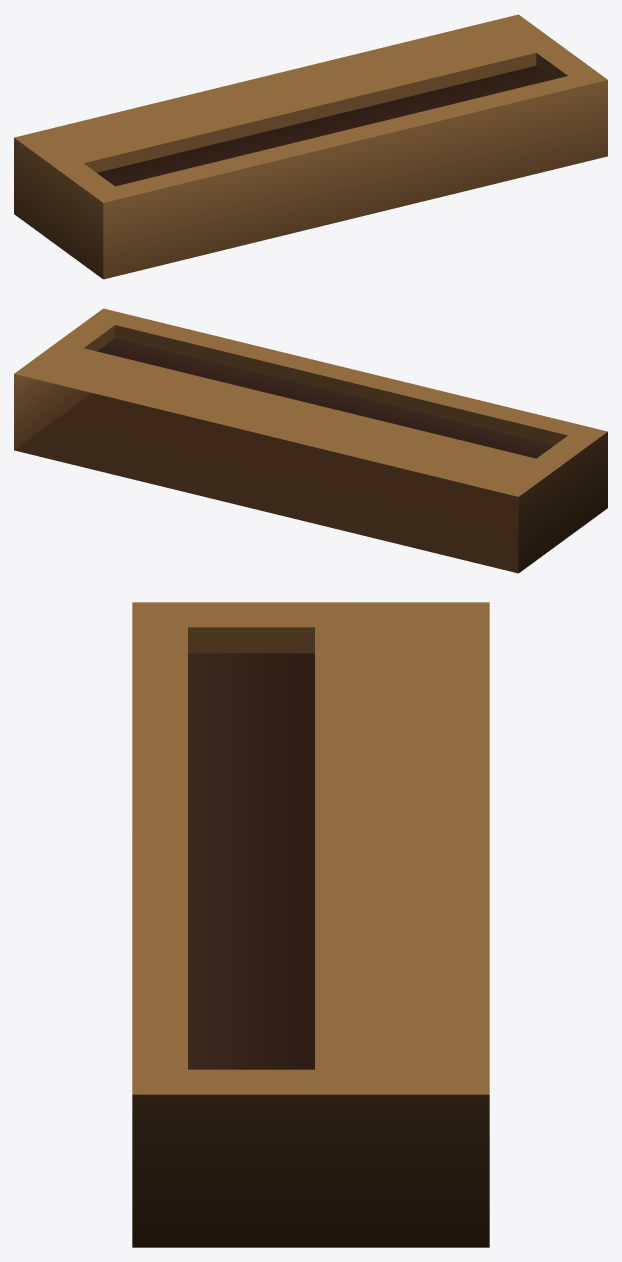
Rendered from Window_FlowerPot_02B.fbx.
3 views of the same model, one above another, from view 1: azimuth 30°, elevation 25°; view 2: azimuth 150°, elevation 25°; view 3: azimuth 270°, elevation 25° (orthographic). The views are drawn at different scales.
Visible parts, largest first — view 1: Window_FlowerPot_02B; view 2: Window_FlowerPot_02B; view 3: Window_FlowerPot_02B.
Part boxes in pixels (<box>): Window_FlowerPot_02B: <box>14,14,607,279</box>; Window_FlowerPot_02B: <box>14,308,607,573</box>; Window_FlowerPot_02B: <box>132,602,489,1247</box>.
Bounding box in the file's own units: 218 × 31.55 × 66.78.
Materials: 1 (1 with a texture image).
